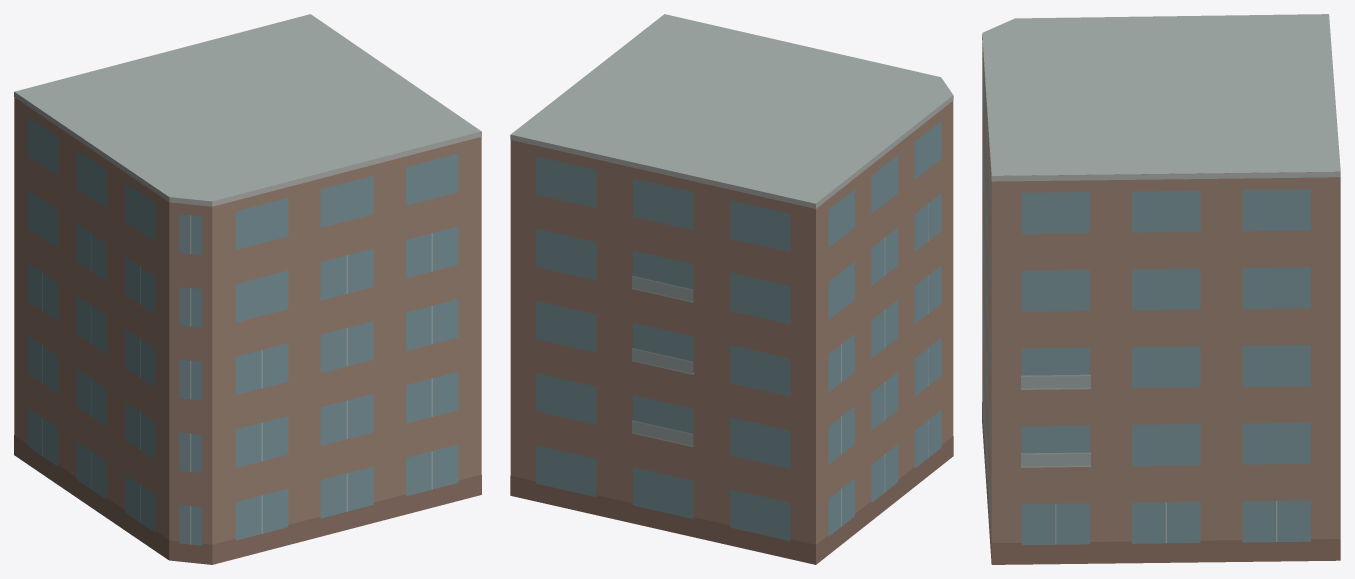
The model's file is survey-upis-32830151.glb.
3 views of the same model, side by side, from view 1: azimuth 30°, elevation 25°; view 2: azimuth 150°, elevation 25°; view 3: azimuth 270°, elevation 25° (orthographic). The views are drawn at different scales.
Visible parts, largest first — view 1: survey-upis-32830151.tmp; view 2: survey-upis-32830151.tmp; view 3: survey-upis-32830151.tmp.
Boxes of the visible parts, x1=… form: survey-upis-32830151.tmp: x1=14, y1=14, x2=481, y2=564; survey-upis-32830151.tmp: x1=510, y1=14, x2=953, y2=564; survey-upis-32830151.tmp: x1=982, y1=14, x2=1340, y2=564.
Bounding box in the file's own units: 15.1 × 16.9 × 14.13.
